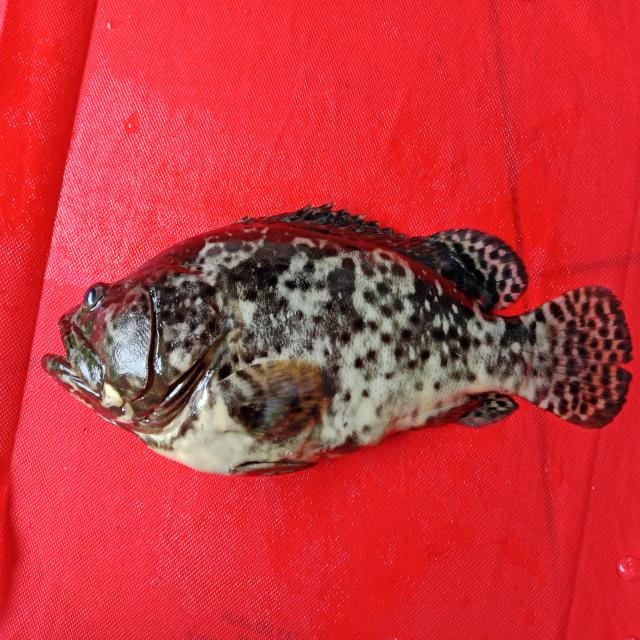ikan: (35, 184, 632, 498)
